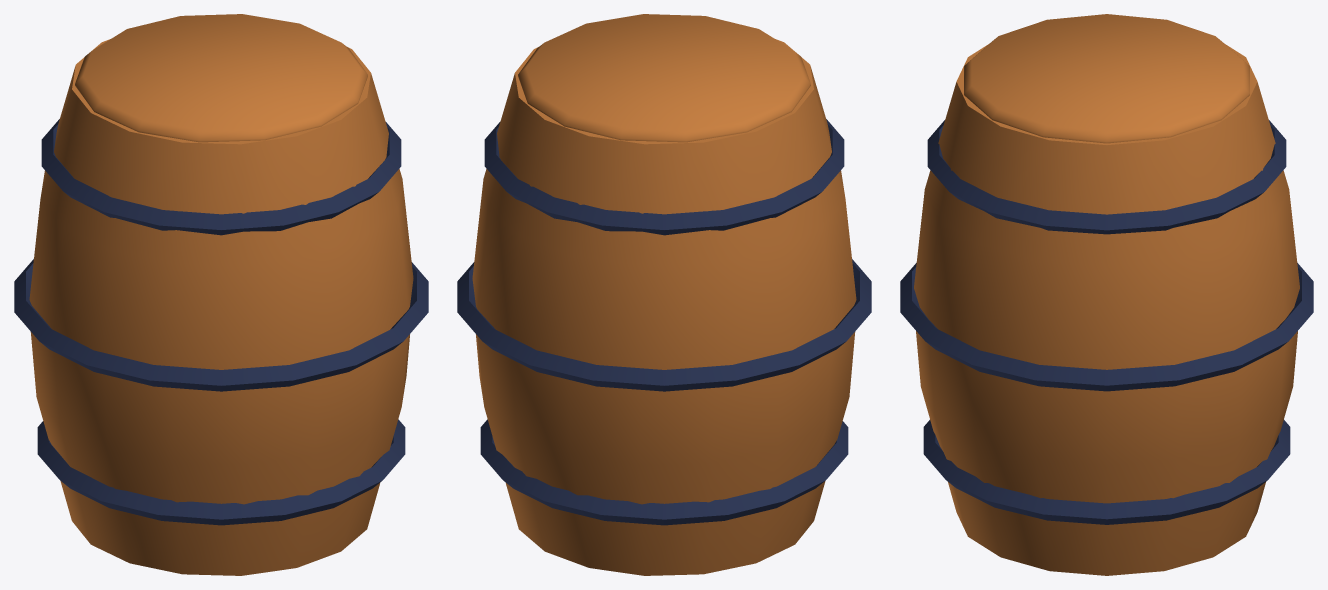
Rendered from W1_Barrel_A.fbx.
3 renders of one model, left to right at view 1: azimuth 30°, elevation 25°; view 2: azimuth 150°, elevation 25°; view 3: azimuth 270°, elevation 25°, orthographic.
Visible parts, largest first — view 1: W1_Barrel_A; view 2: W1_Barrel_A; view 3: W1_Barrel_A.
Part boxes in pixels (x1,y1,x2,y2): W1_Barrel_A: (14,14,428,575); W1_Barrel_A: (457,14,871,575); W1_Barrel_A: (900,14,1313,575).
Size of the model in its own units: 1.06 by 1.23 by 1.04.
